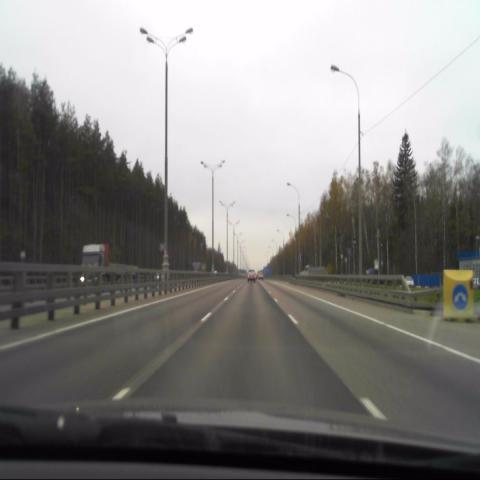4_2_3: (452, 284, 468, 310)
